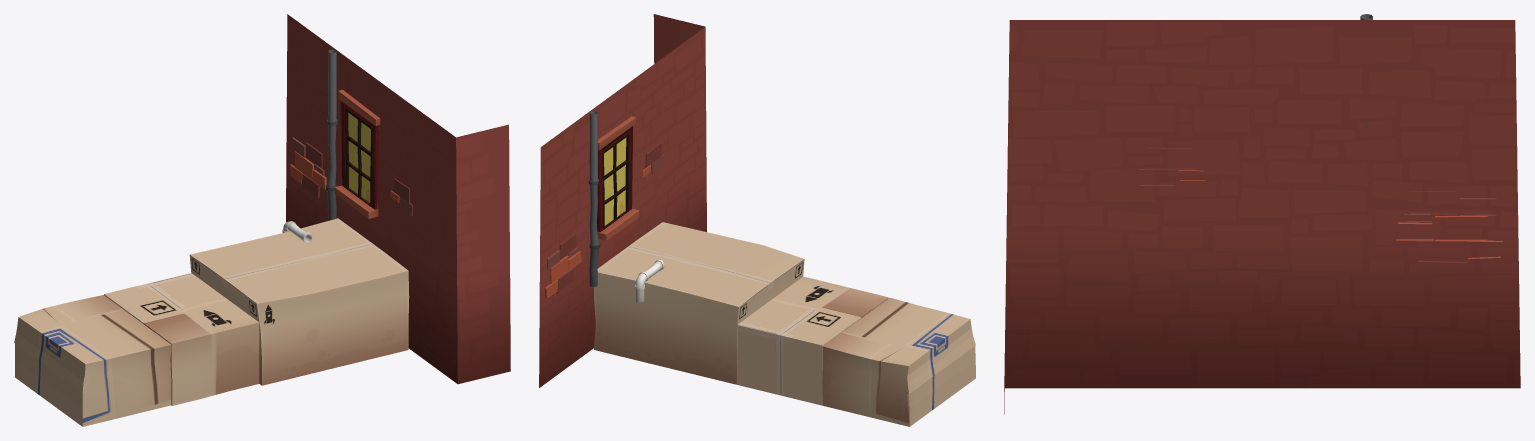
File: g_PlaySpace.fbx
3 renders of one model, left to right at view 1: azimuth 30°, elevation 25°; view 2: azimuth 150°, elevation 25°; view 3: azimuth 270°, elevation 25°, orthographic. The views are drawn at different scales.
Parts seen in each view (by area): view 1: sm_Wall, sm_Box3, sm_Box1, sm_Box2, sm_Window, sm_WindowGlass; view 2: sm_Wall, sm_Box3, sm_Box1, sm_Box2, sm_Window, sm_WindowGlass, sm_Pipe; view 3: sm_Wall.
Boxes of the visible parts, x1,y1,x2,y2 form: sm_Wall: [286, 14, 510, 384]; sm_Box3: [189, 218, 409, 385]; sm_Box1: [14, 295, 171, 426]; sm_Box2: [104, 273, 259, 405]; sm_Window: [334, 89, 380, 218]; sm_WindowGlass: [348, 113, 370, 202]; sm_Wall: [539, 14, 706, 387]; sm_Box3: [594, 222, 804, 384]; sm_Box1: [822, 297, 975, 426]; sm_Box2: [737, 276, 888, 405]; sm_Window: [597, 116, 639, 240]; sm_WindowGlass: [604, 137, 626, 225]; sm_Pipe: [635, 259, 664, 302]; sm_Wall: [1004, 14, 1520, 414].
Size of the model in its own units: 6444 by 4008 by 5084.
